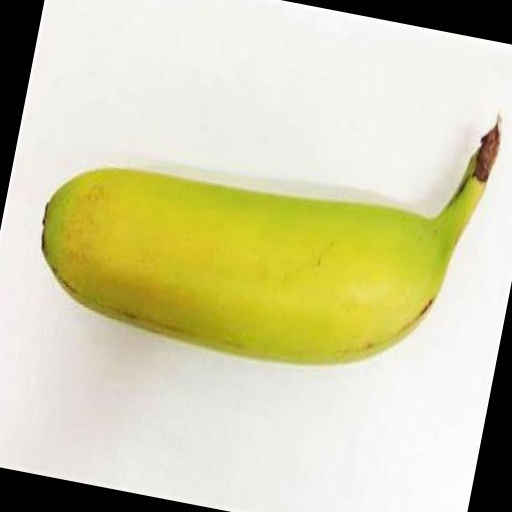fruit: (451, 102, 512, 259)
